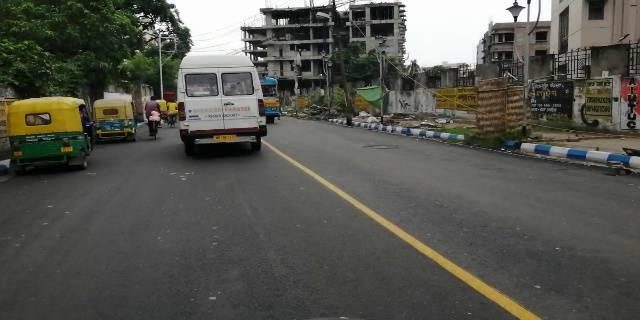Autorickshaw: (2, 90, 95, 175), (95, 93, 139, 155)
Cycle: (144, 84, 169, 140)
Van: (164, 48, 274, 157)
